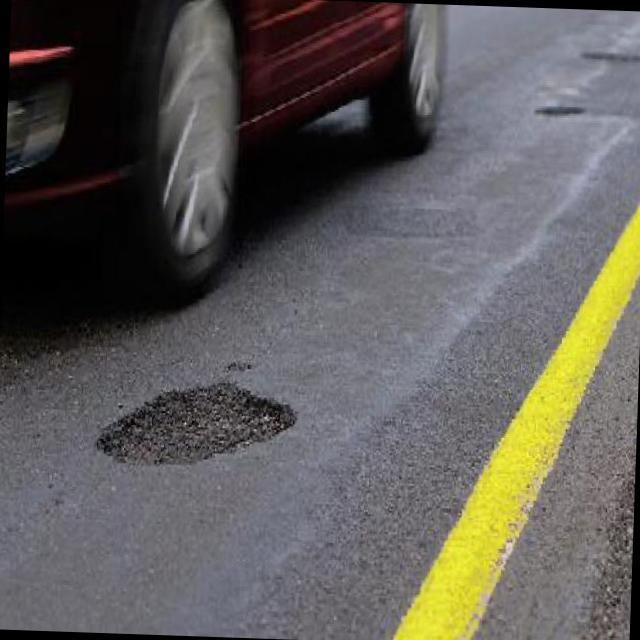Pothole: (97, 381, 295, 463)
